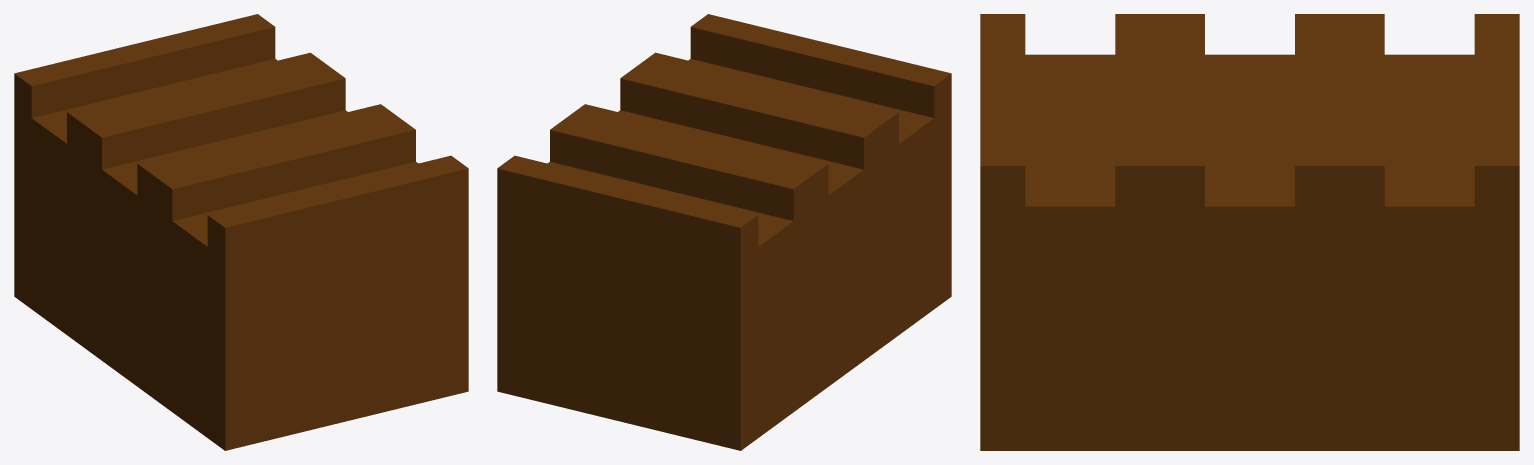
Rendered from SupplyTruck-2.obj.
3 views of the same model, side by side, from view 1: azimuth 30°, elevation 25°; view 2: azimuth 150°, elevation 25°; view 3: azimuth 270°, elevation 25° (orthographic). The views are drawn at different scales.
Parts seen in each view (by area): view 1: SupplyTruck-2; view 2: SupplyTruck-2; view 3: SupplyTruck-2.
Boxes of the visible parts, <box> form: SupplyTruck-2: <box>14,14,468,450</box>; SupplyTruck-2: <box>497,14,951,450</box>; SupplyTruck-2: <box>980,14,1519,450</box>.
Size of the model in its own units: 8 by 7 by 12.
1 material, 1 textured.
